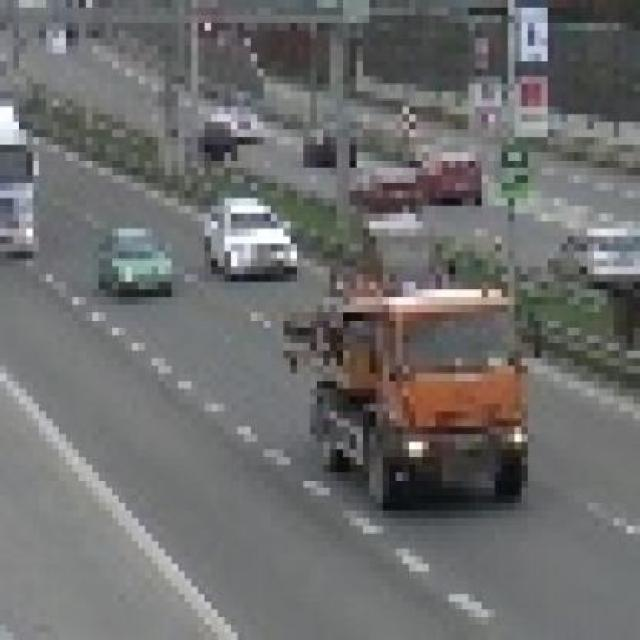truck: (304, 267, 549, 504)
